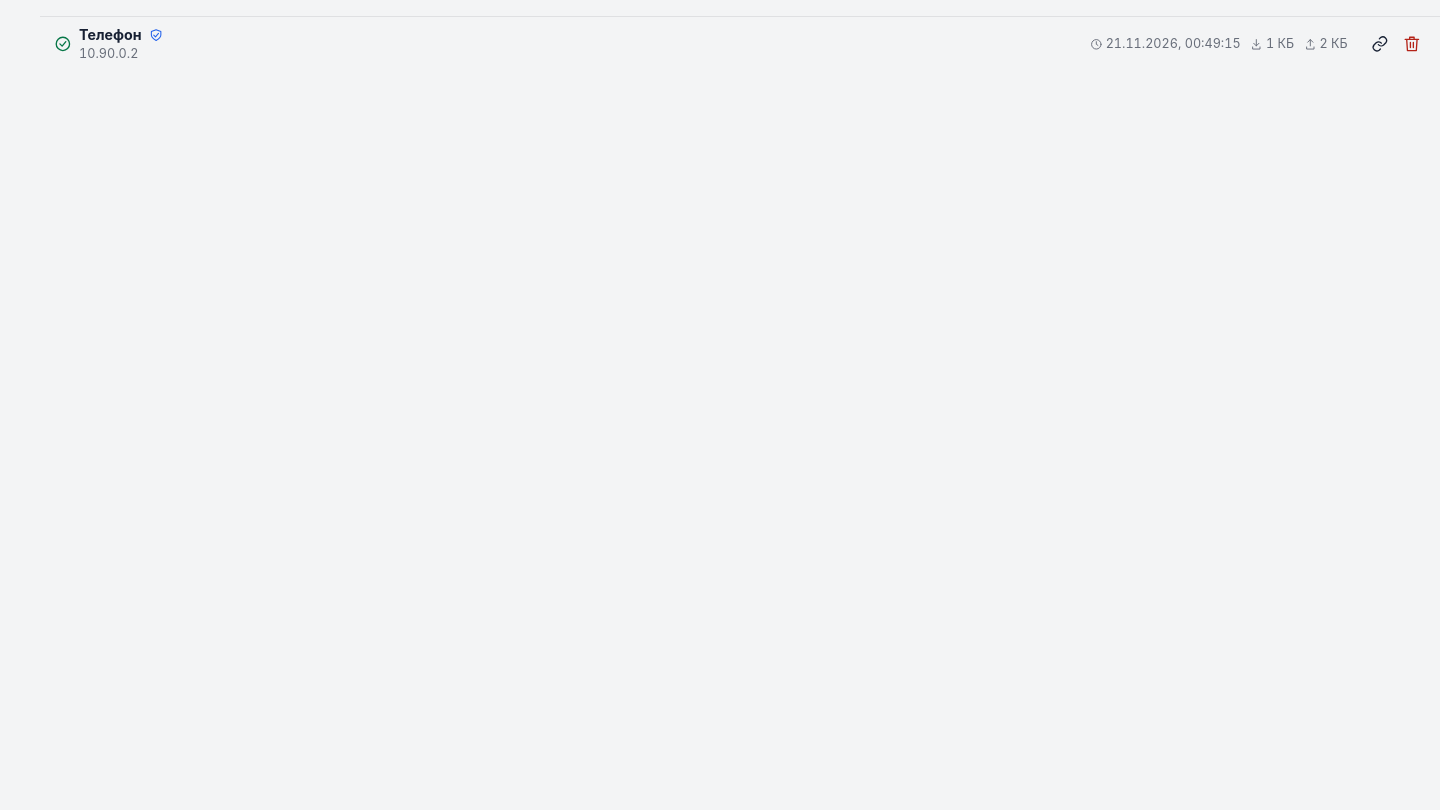
it: PeerRow › opens a link modal and issues a new one-time link
This screenshot has width=1440, height=810.
Click the button named "Создать одноразовую ссылку": [1380, 44] box [1365, 30, 1394, 58]
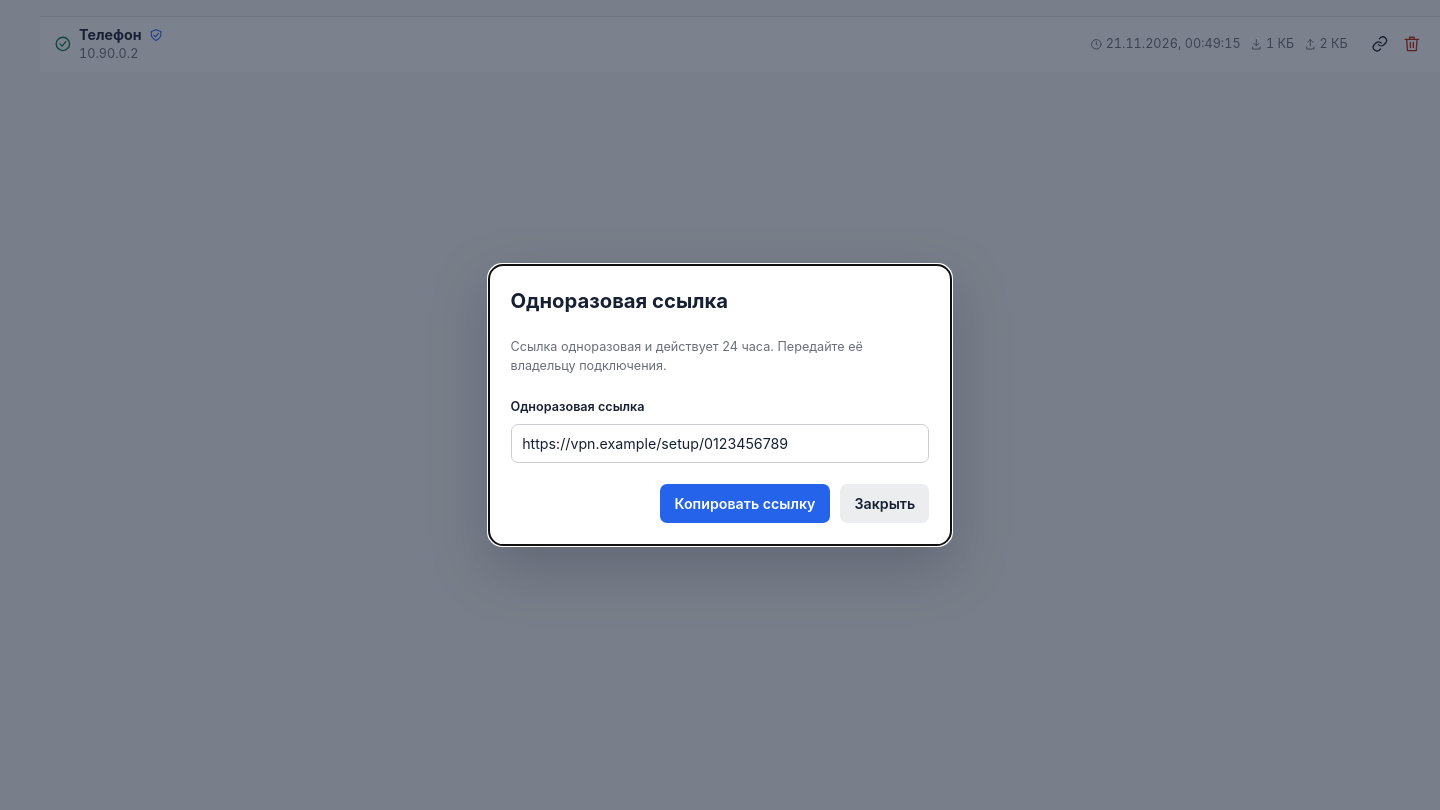
Expected: the field labelled "Одноразовая ссылка" holds "https://vpn.example/setup/0123456789", [510, 424, 930, 463]
Expected: the dialog is shown, [488, 264, 952, 546]
Click the button "Закрыть": [885, 504] box [840, 484, 930, 523]
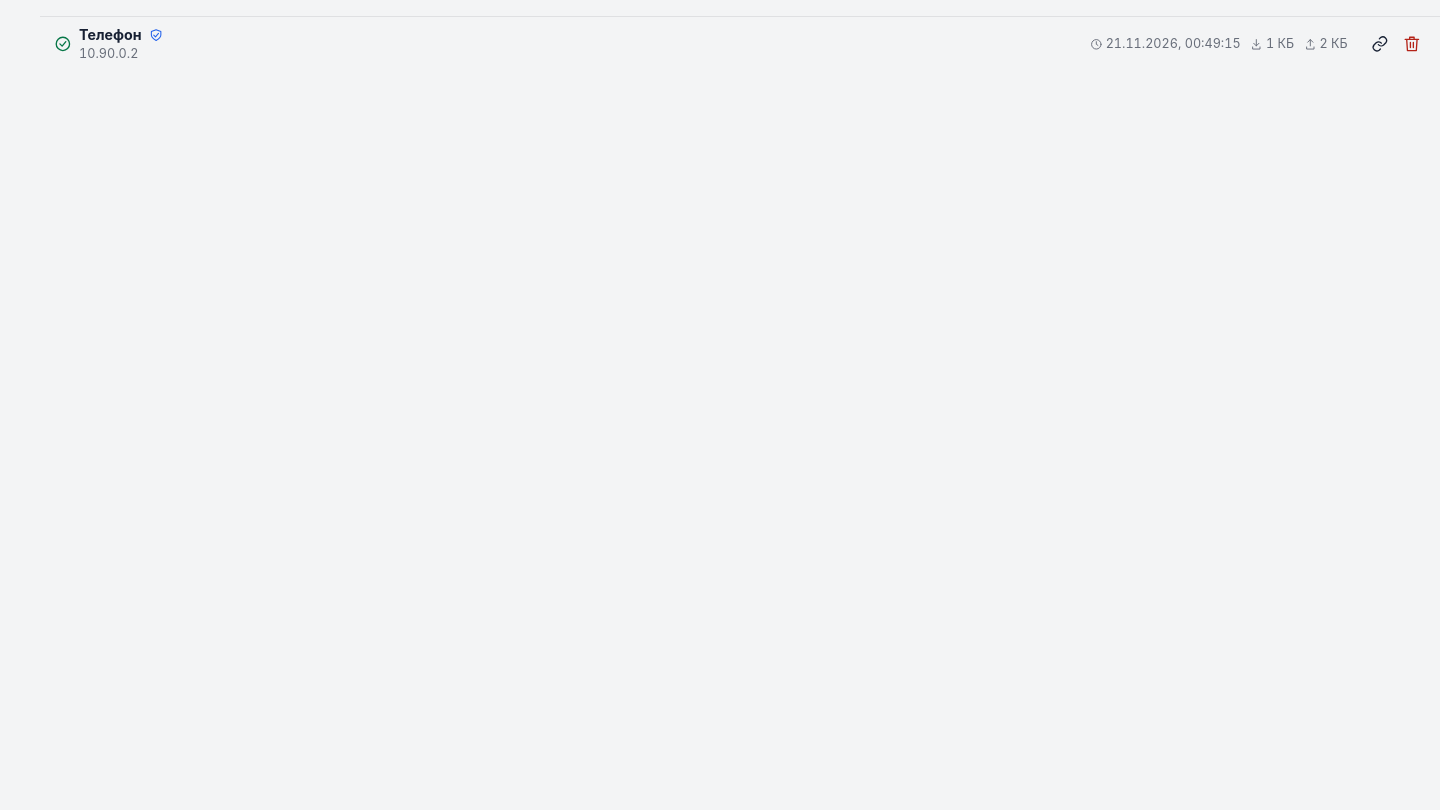
Expected: the dialog is gone
